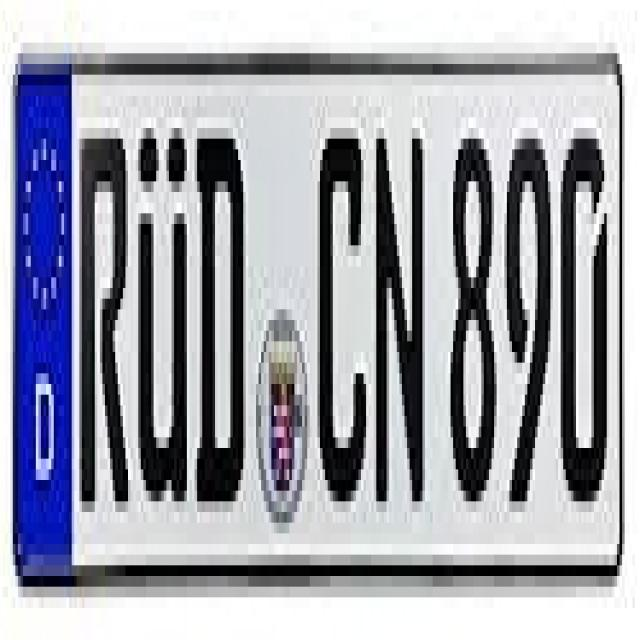Allemagne: (12, 76, 71, 598)
EU: (14, 76, 627, 586)
